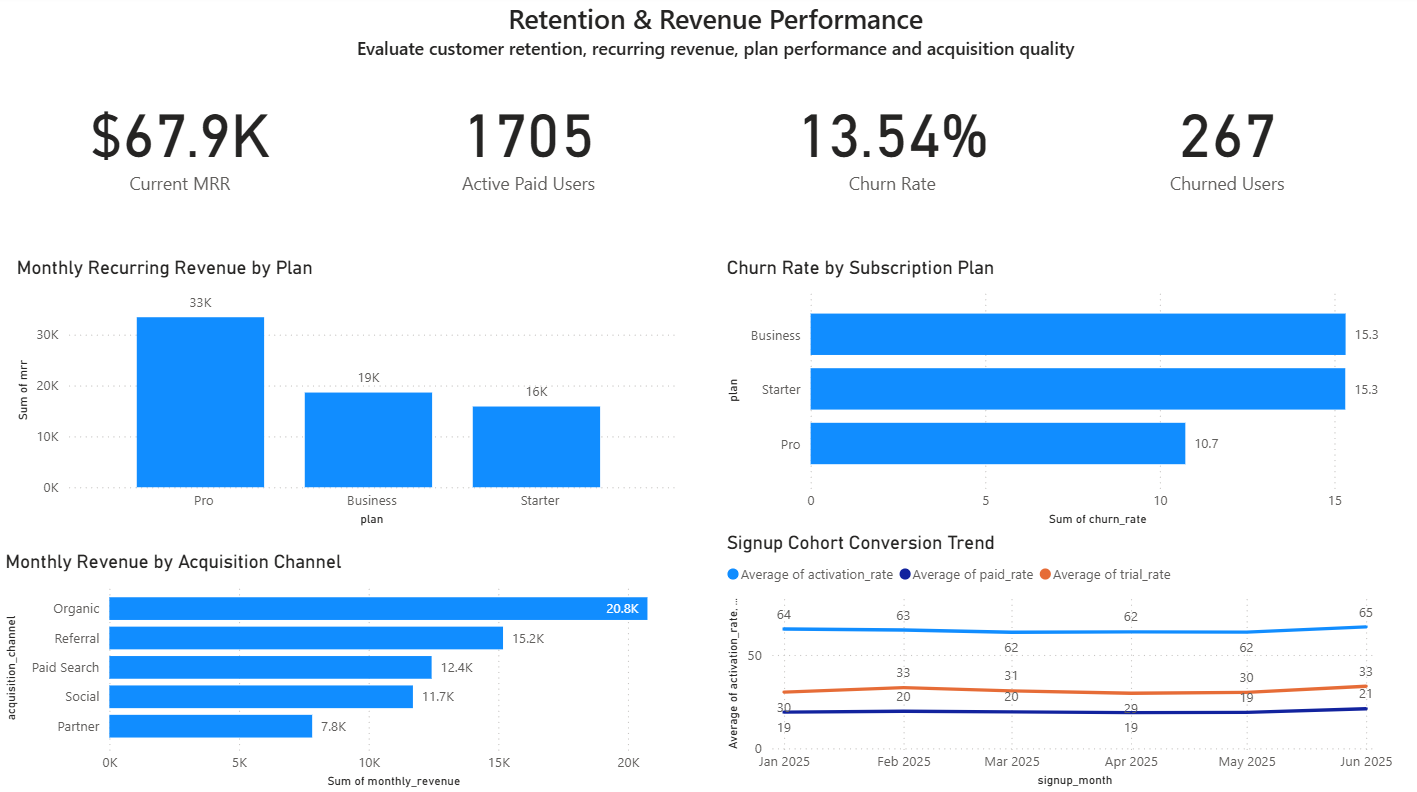

Layout of this report page (visuals, bound fields, positions):
{"tool":"powerbi","page":{"name":"Retention & Revenue","canvas":[1280,720],"ordinal":2},"visuals":[{"type":"textbox","box":[10,0,1270.2,81.5],"z":0},{"type":"clusteredColumnChart","title":"Monthly Recurring Revenue by Plan","fields":{"Category":["mrr_by_plan.plan"],"Y":["Sum(mrr_by_plan.mrr)"]},"box":[10,235.7,603.1,248.3],"z":1000},{"type":"clusteredBarChart","title":"Churn Rate by Subscription Plan","fields":{"Category":["churn_by_plan.plan"],"Y":["Sum(churn_by_plan.churn_rate)"]},"box":[650.8,235.7,610.7,248.3],"z":2000},{"type":"clusteredBarChart","title":"Monthly Revenue by Acquisition Channel","fields":{"Category":["revenue_by_channel.acquisition_channel"],"Y":["Sum(revenue_by_channel.monthly_revenue)"]},"box":[0,500.3,627,219.4],"z":3000},{"type":"lineChart","title":"Signup Cohort Conversion Trend","fields":{"Y":["Avg(signup_cohort_summary.activation_rate)","Avg(signup_cohort_summary.paid_rate)","Avg(signup_cohort_summary.trial_rate)"],"Category":["signup_cohort_summary.signup_month"]},"box":[650.8,484,610.7,235.7],"z":4000},{"type":"card","fields":{"Values":["user_analysis_master.Current MRR"]},"box":[11,63.6,302,135.7],"z":5000},{"type":"card","fields":{"Values":["user_analysis_master.Churn Rate"]},"box":[654.2,63.6,302,135.7],"z":5001},{"type":"card","fields":{"Values":["user_analysis_master.Active Paid Users"]},"box":[325.3,63.6,302,135.7],"z":5002},{"type":"card","fields":{"Values":["user_analysis_master.Churned Users"]},"box":[956.3,63.6,302,135.7],"z":5003}]}

Visuals, with their boxes in screenshot pixels (x1, y1, x2, y2), scaled from the page's 1280x720 canvas onto the 1417x792 screenshot:
textbox: left=11, top=0, right=1416, bottom=90
"Monthly Recurring Revenue by Plan" clusteredColumnChart: left=11, top=259, right=679, bottom=532
"Churn Rate by Subscription Plan" clusteredBarChart: left=720, top=259, right=1397, bottom=532
"Monthly Revenue by Acquisition Channel" clusteredBarChart: left=0, top=550, right=694, bottom=791
"Signup Cohort Conversion Trend" lineChart: left=720, top=532, right=1397, bottom=791
card - user_analysis_master.Current MRR: left=12, top=70, right=347, bottom=219
card - user_analysis_master.Churn Rate: left=724, top=70, right=1059, bottom=219
card - user_analysis_master.Active Paid Users: left=360, top=70, right=694, bottom=219
card - user_analysis_master.Churned Users: left=1059, top=70, right=1393, bottom=219
